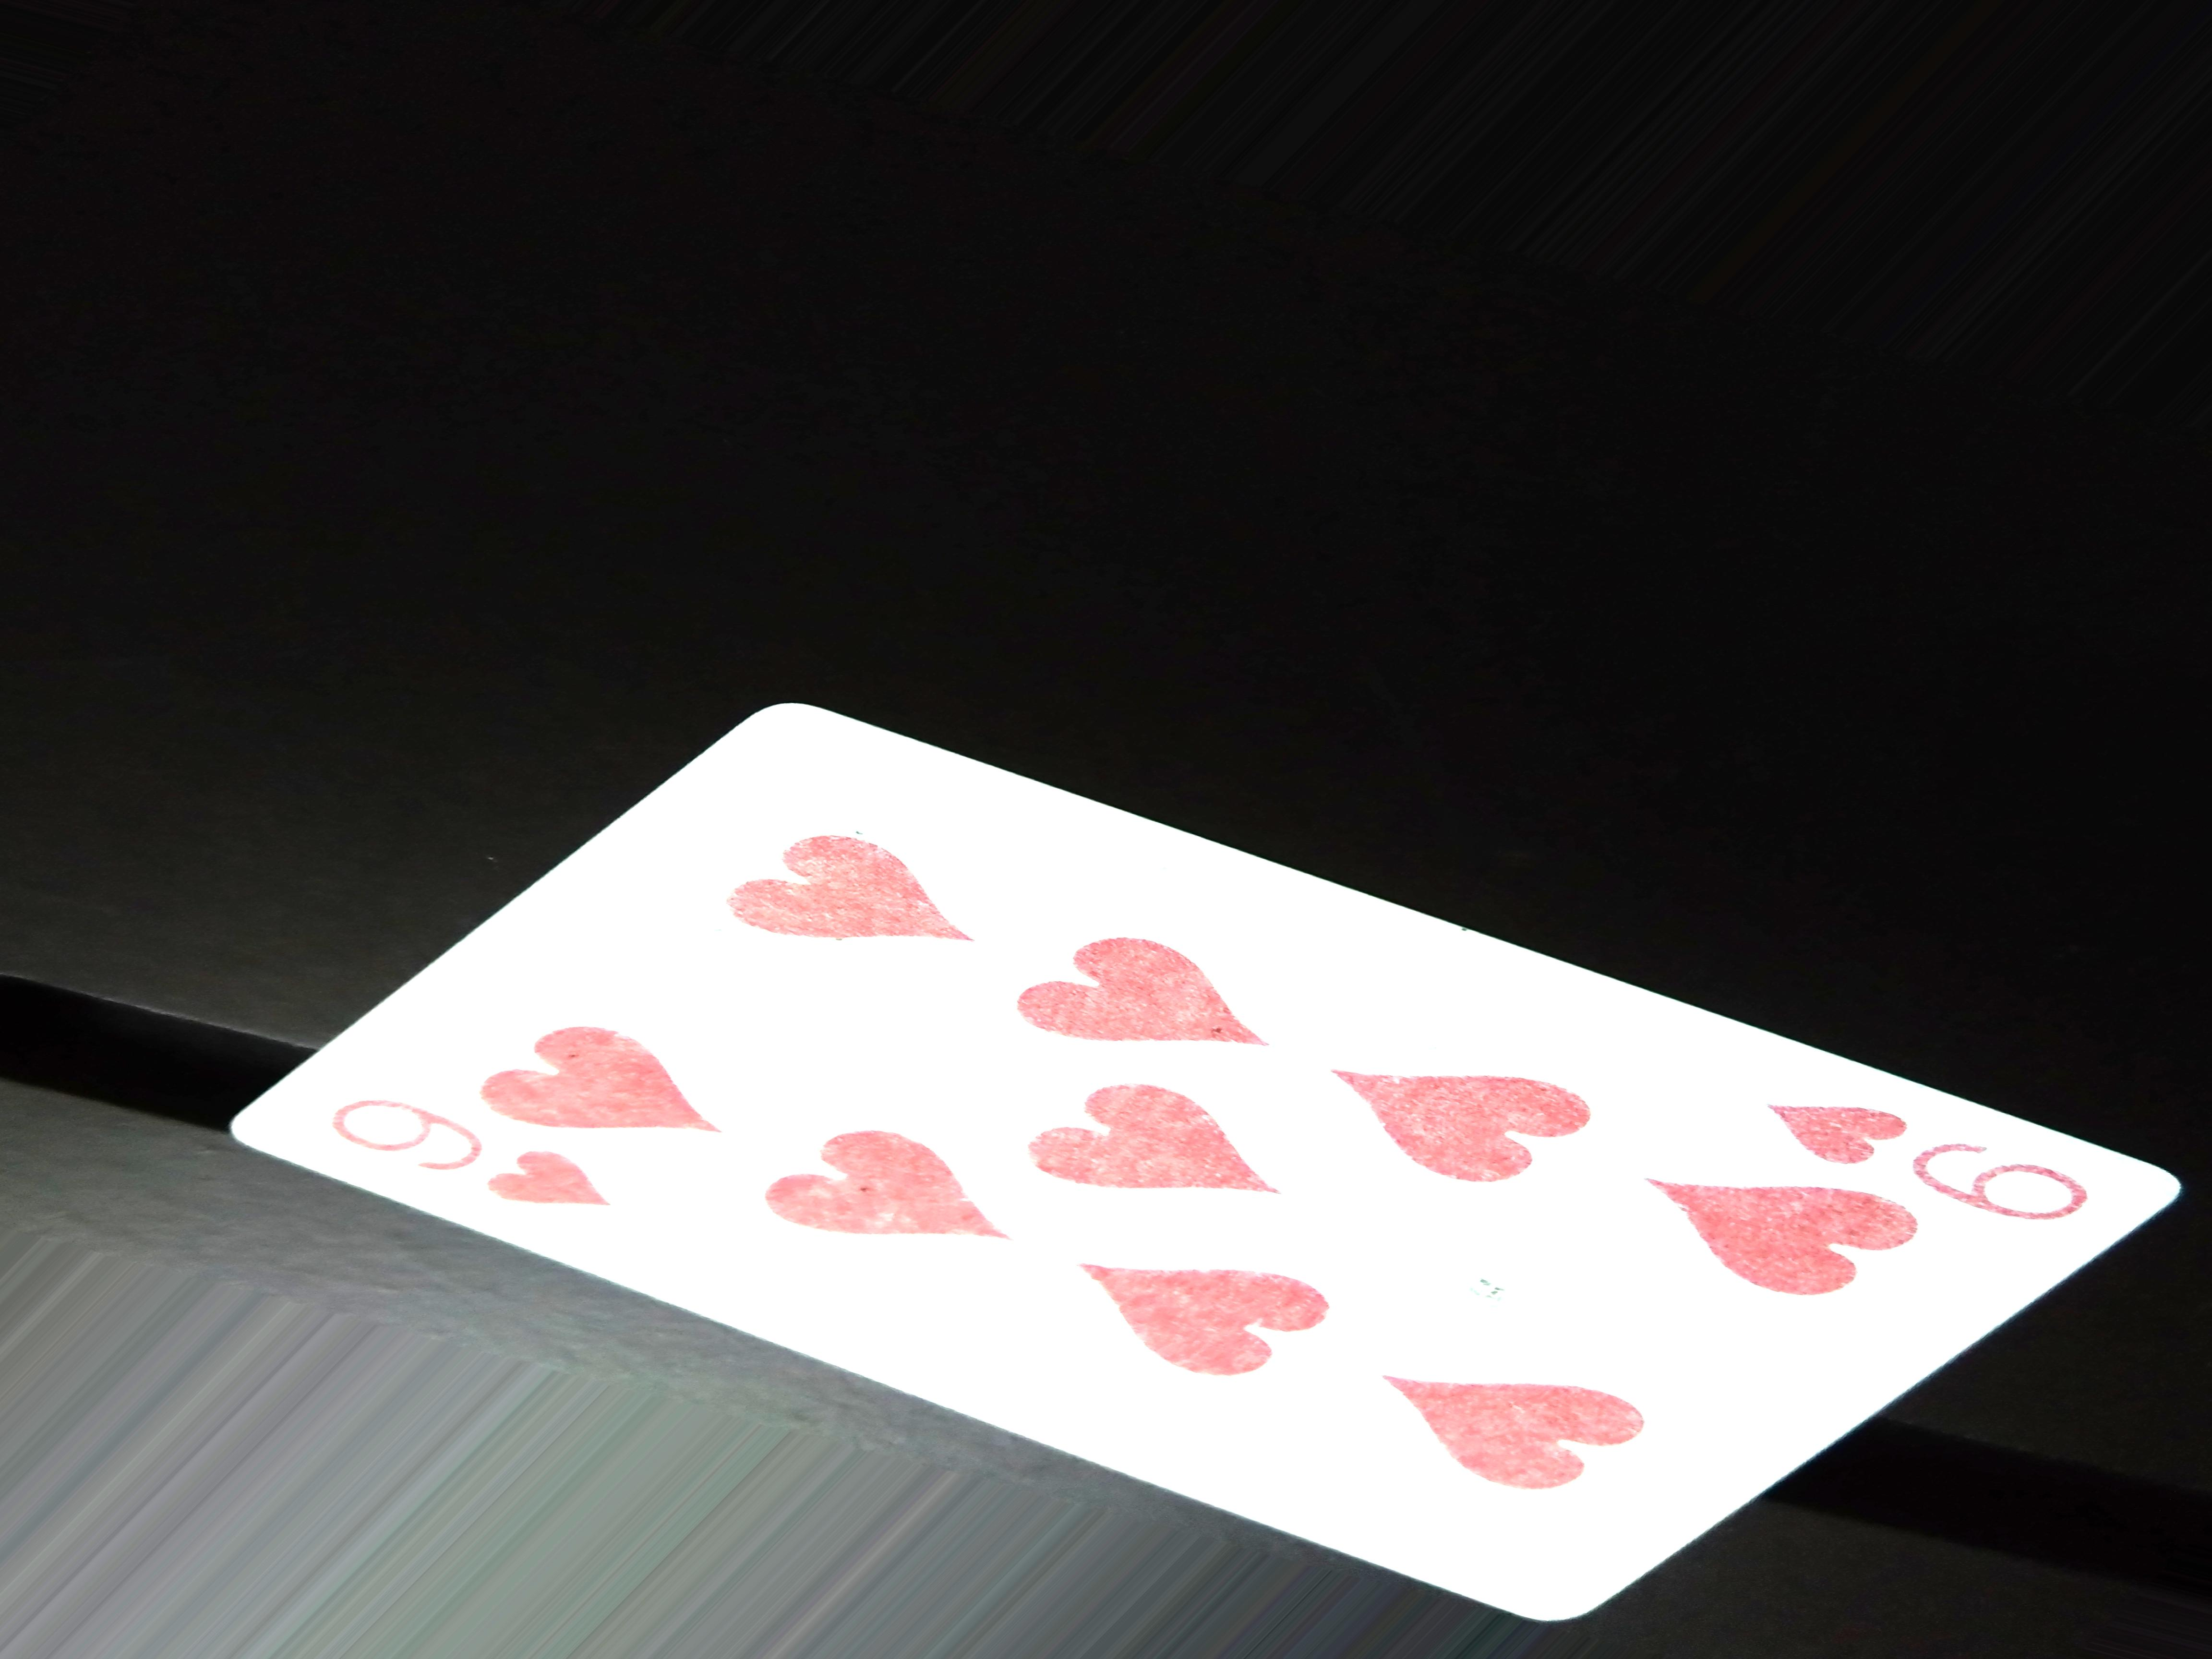9H: (322, 1093, 625, 1237)
